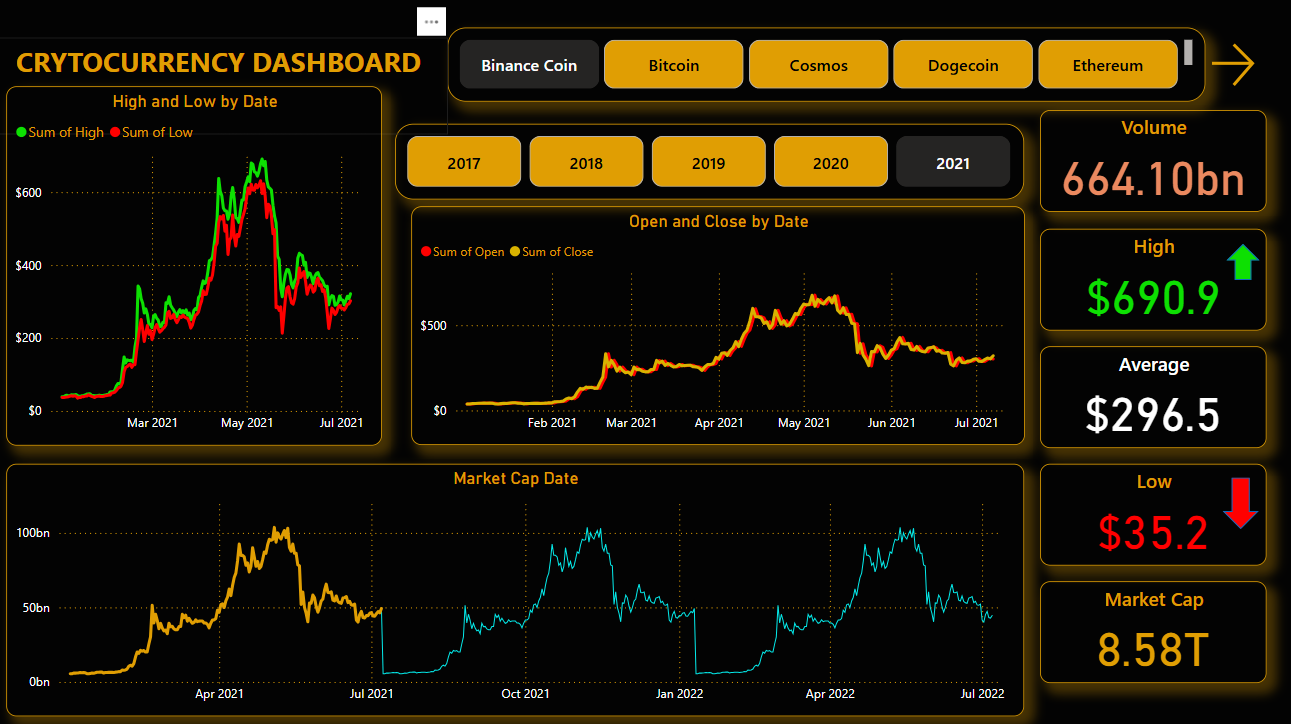

This screenshot's page, from the dashboard's own definition file:
{"tool":"powerbi","page":{"name":"Overview","canvas":[1280,720],"ordinal":0},"visuals":[{"type":"advancedSlicerVisual","fields":{"Values":["CryptoDataSet.Name"]},"box":[448.7,31.6,743.7,72.7],"z":0},{"type":"advancedSlicerVisual","fields":{"Values":["CryptoDataSet.Year"]},"box":[397.9,126.2,617.5,74.1],"z":1000},{"type":"actionButton","box":[1192.5,41.2,72.7,53.5],"z":2000},{"type":"card","title":"Volume","fields":{"Values":["Sum(CryptoDataSet.Volume)"]},"box":[1030.5,112.5,222.3,100.2],"z":3000},{"type":"card","title":"High","fields":{"Values":["Max(CryptoDataSet.High)"]},"box":[1030.5,229.2,222.3,100.2],"z":4000},{"type":"card","title":"Average","fields":{"Values":["Avg(CryptoDataSet.Average)"]},"box":[1030.5,344.4,222.3,100.2],"z":5000},{"type":"card","title":"Low","fields":{"Values":["Min(CryptoDataSet.Low)"]},"box":[1030.5,459.7,222.3,100.2],"z":6000},{"type":"card","title":"Market Cap","fields":{"Values":["Sum(CryptoDataSet.Marketcap)"]},"box":[1030.5,575,222.3,100.2],"z":7000},{"type":"shape","box":[1213,244.3,32.9,35.7],"z":8000},{"type":"shape","box":[1210.3,473.4,35.7,50.8],"z":9000},{"type":"textbox","box":[0,41.2,448.7,96.1],"z":10000},{"type":"lineChart","title":" High and Low by Date","fields":{"Y":["Sum(CryptoDataSet.High)","Sum(CryptoDataSet.Low)"],"Category":["CryptoDataSet.Date"]},"box":[16.5,89.2,369.1,352.7],"z":11000},{"type":"lineChart","title":" Open and Close by Date","fields":{"Category":["CryptoDataSet.Date"],"Y":["Sum(CryptoDataSet.Open)","Sum(CryptoDataSet.Close)"]},"box":[413,207.2,602.4,234.6],"z":12000},{"type":"lineChart","title":"Market Cap Date","fields":{"Category":["CryptoDataSet.Date"],"Y":["Sum(CryptoDataSet.Marketcap)"]},"box":[16.5,459.7,999,248.4],"z":13000}]}

Visuals, with their boxes in screenshot pixels (x1, y1, x2, y2), scaled from the page's 1280x720 canvas onto the 1291x724 screenshot:
advancedSlicerVisual - CryptoDataSet.Name: (453,32,1203,105)
advancedSlicerVisual - CryptoDataSet.Year: (401,127,1024,201)
actionButton: (1203,41,1276,95)
"Volume" card: (1039,113,1264,214)
"High" card: (1039,230,1264,331)
"Average" card: (1039,346,1264,447)
"Low" card: (1039,462,1264,563)
"Market Cap" card: (1039,578,1264,679)
shape: (1223,246,1257,282)
shape: (1221,476,1257,527)
textbox: (0,41,453,138)
" High and Low by Date" lineChart: (17,90,389,444)
" Open and Close by Date" lineChart: (417,208,1024,444)
"Market Cap Date" lineChart: (17,462,1024,712)
